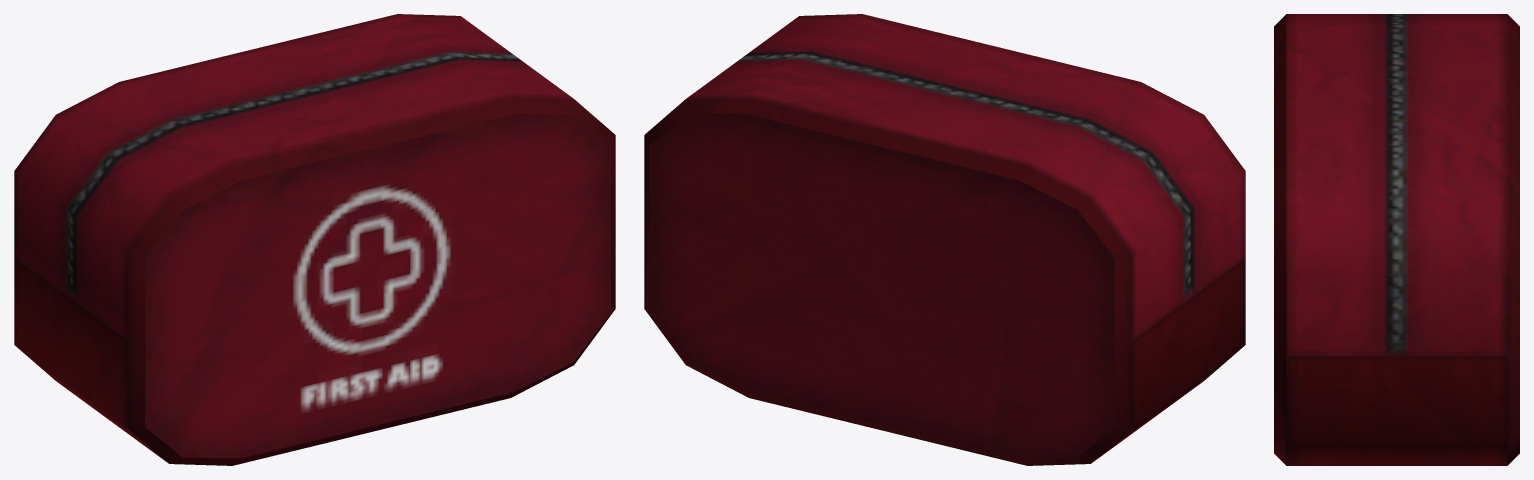
3 views of the same model, side by side, from view 1: azimuth 30°, elevation 25°; view 2: azimuth 150°, elevation 25°; view 3: azimuth 270°, elevation 25° (orthographic). The views are drawn at different scales.
Parts seen in each view (by area): view 1: health_l0; view 2: health_l0; view 3: health_l0.
Boxes of the visible parts, bbox=[...] form: health_l0: bbox=[14, 14, 615, 465]; health_l0: bbox=[644, 14, 1245, 465]; health_l0: bbox=[1274, 14, 1519, 465].
Bounding box in the file's own units: 0.2641 × 0.1558 × 0.1183.
Materials: 1 (1 with a texture image).
